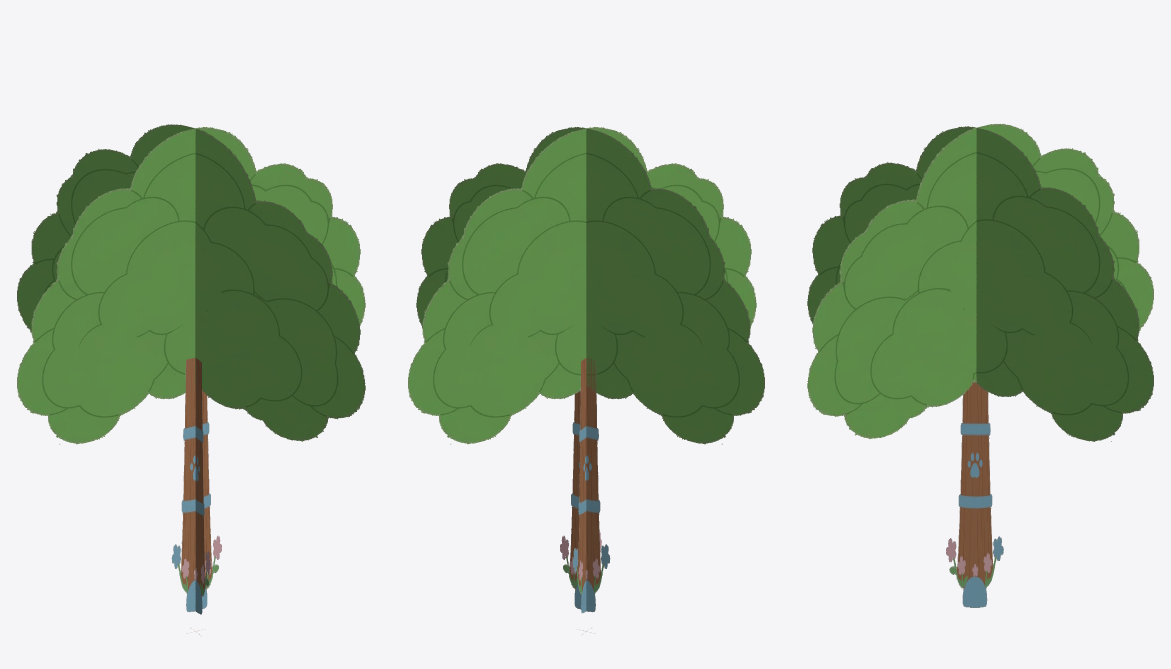
The model's file is nyanisyarud-tree-green.glb.
3 views of the same model, side by side, from view 1: azimuth 30°, elevation 25°; view 2: azimuth 150°, elevation 25°; view 3: azimuth 270°, elevation 25° (orthographic).
Size of the model in its own units: 1.8 by 2.51 by 1.56.
Materials: 2 (2 with a texture image).
